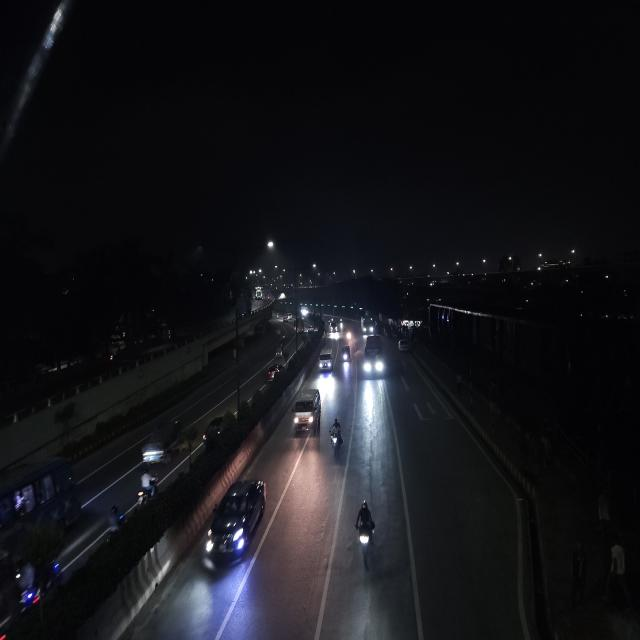bus: (0, 452, 77, 639), (362, 333, 386, 381), (360, 313, 376, 337)
car: (200, 474, 270, 569), (291, 386, 323, 438), (318, 347, 336, 375), (266, 361, 284, 384), (396, 338, 410, 355)
cng: (340, 347, 352, 364), (275, 346, 283, 359)
motorcycle: (352, 498, 379, 571), (134, 468, 159, 506), (328, 416, 346, 462), (104, 502, 124, 540), (344, 327, 353, 342)
pedestrian: (604, 539, 630, 606)
pickup_van: (138, 414, 190, 465)
truck: (238, 300, 250, 316)
